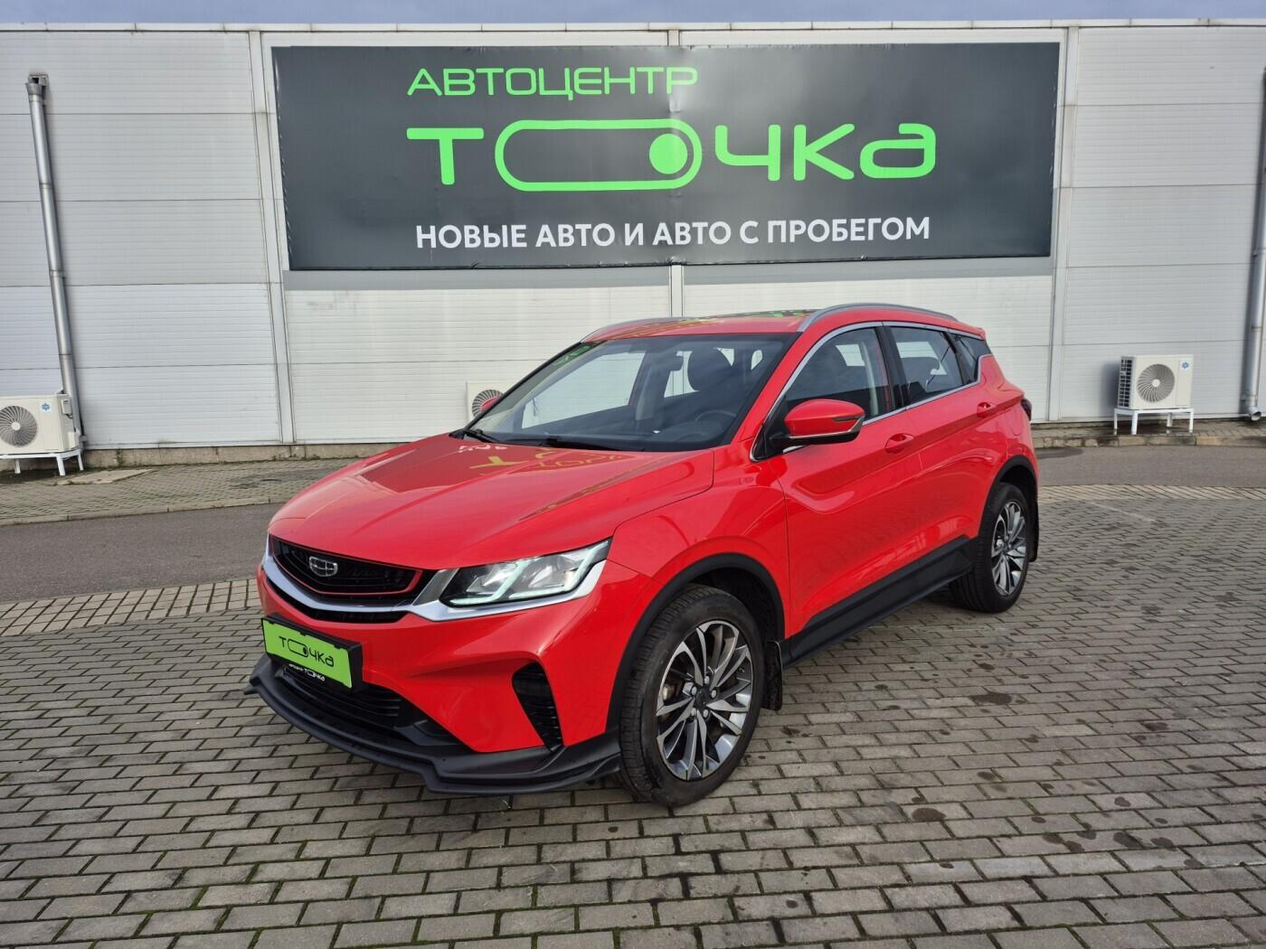Coolray_2019-2023: (242, 294, 1043, 816)
